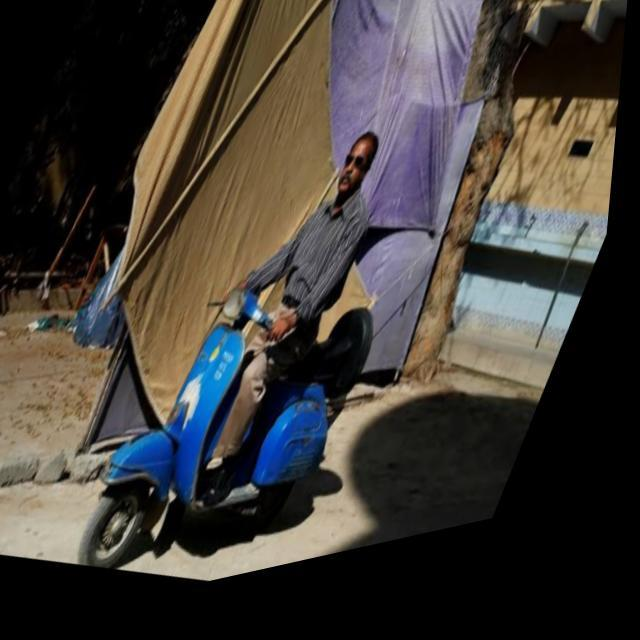Nonhelmet: (329, 123, 382, 206)
